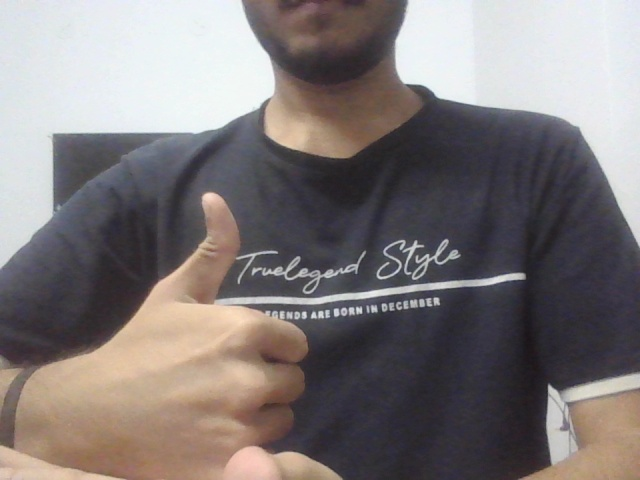Help: (1, 166, 383, 480)
